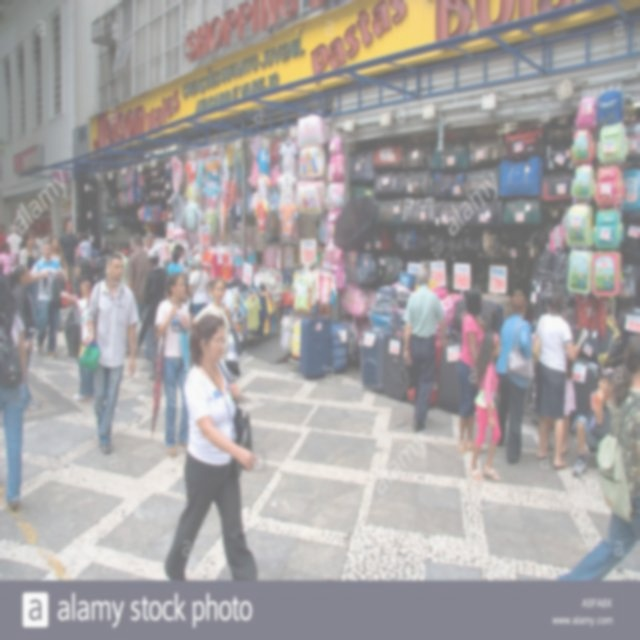pessoa: (161, 313, 261, 581), (550, 335, 640, 581), (85, 252, 138, 458), (530, 292, 588, 470), (148, 269, 196, 457), (402, 265, 450, 431), (492, 289, 533, 465), (0, 275, 29, 510), (466, 329, 504, 482), (454, 284, 487, 456), (63, 255, 98, 402), (572, 367, 616, 480), (10, 262, 42, 410), (27, 238, 66, 358), (125, 232, 154, 362), (189, 276, 231, 364), (144, 248, 168, 382), (18, 232, 41, 331), (559, 328, 574, 456), (58, 218, 80, 295), (188, 253, 210, 318), (106, 240, 128, 288), (142, 232, 164, 268), (5, 223, 24, 264), (48, 235, 66, 272), (77, 230, 93, 264), (167, 250, 184, 280), (172, 243, 188, 270), (31, 224, 52, 242), (0, 223, 8, 256)
